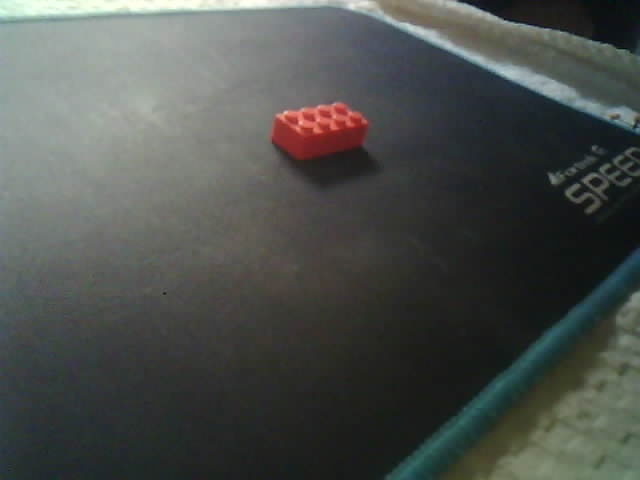lego: (269, 100, 369, 163)
